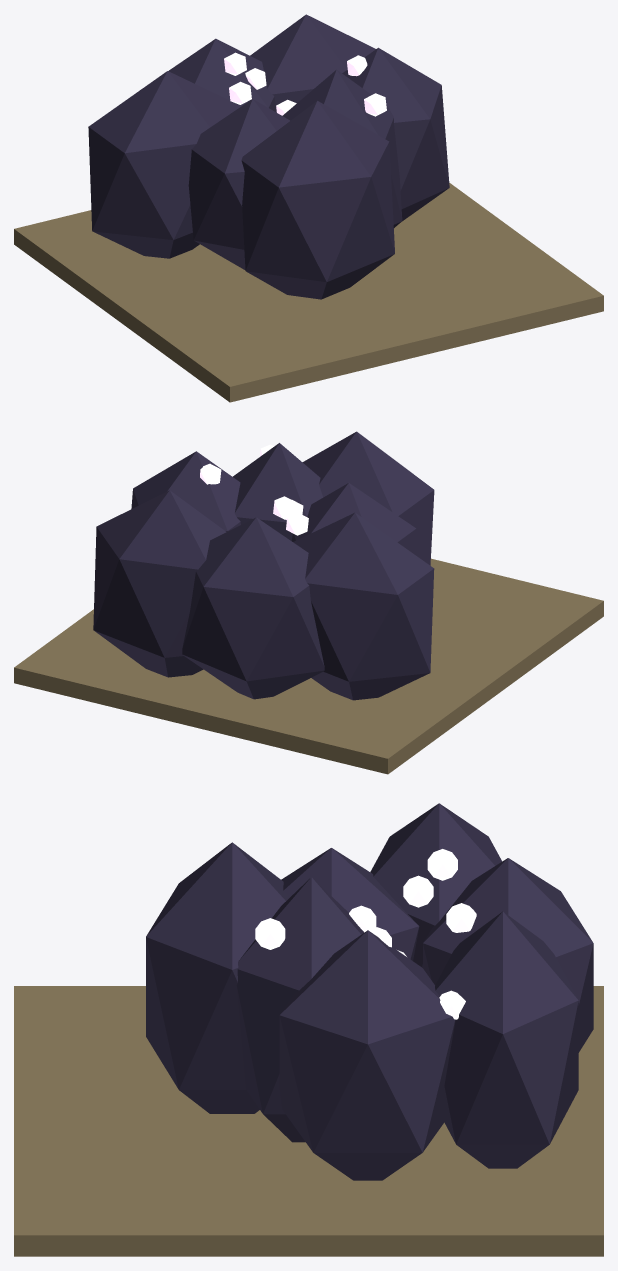
Rendered from Deposit_Starlight_Normal.fbx.
3 renders of one model, top to bottom at view 1: azimuth 30°, elevation 25°; view 2: azimuth 150°, elevation 25°; view 3: azimuth 270°, elevation 25°, orthographic. The views are drawn at different scales.
Parts seen in each view (by area): view 1: Deposit_Starlight_Normal_Body; view 2: Deposit_Starlight_Normal_Body; view 3: Deposit_Starlight_Normal_Body.
Part boxes in pixels (x1,y1,x2,y2): Deposit_Starlight_Normal_Body: (14, 14, 603, 402); Deposit_Starlight_Normal_Body: (14, 431, 603, 774); Deposit_Starlight_Normal_Body: (14, 803, 603, 1256).
Size of the model in its own units: 1 by 0.5403 by 1.
